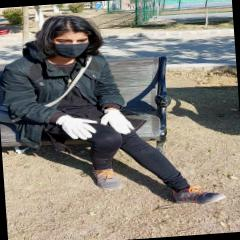gloved: (56, 113, 99, 142), (101, 107, 135, 135)
